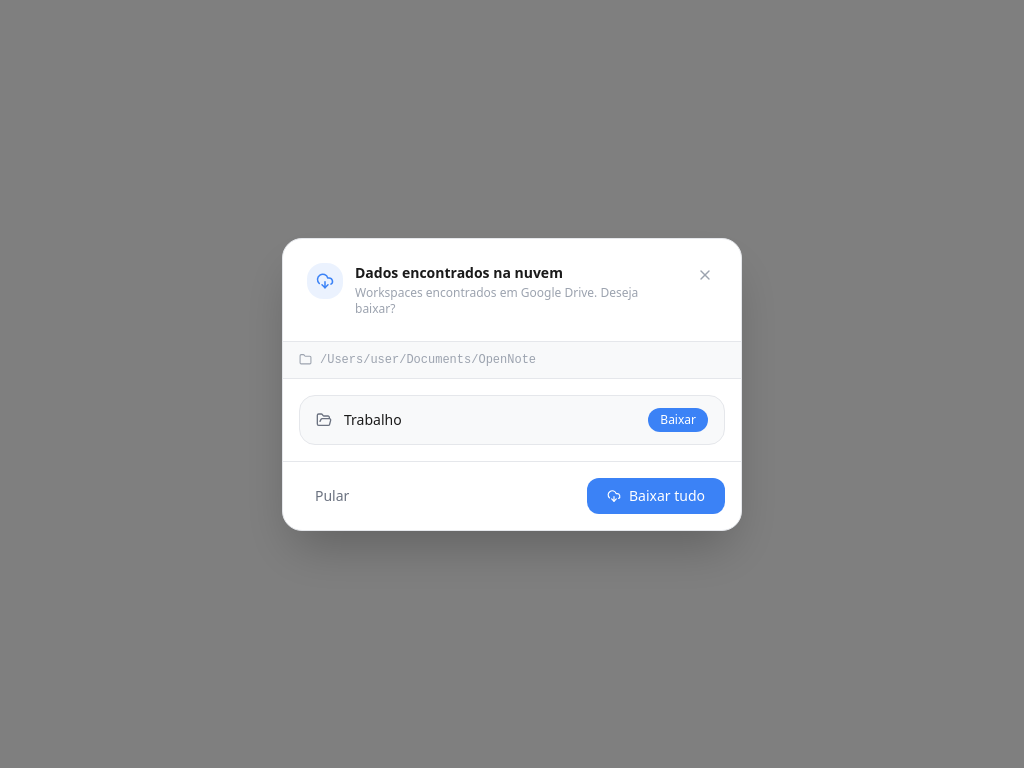
Test case: CloudImportModal › shows Fechar instead of Pular after all done
Click the button "Baixar": (678, 420) [648,408,708,432]
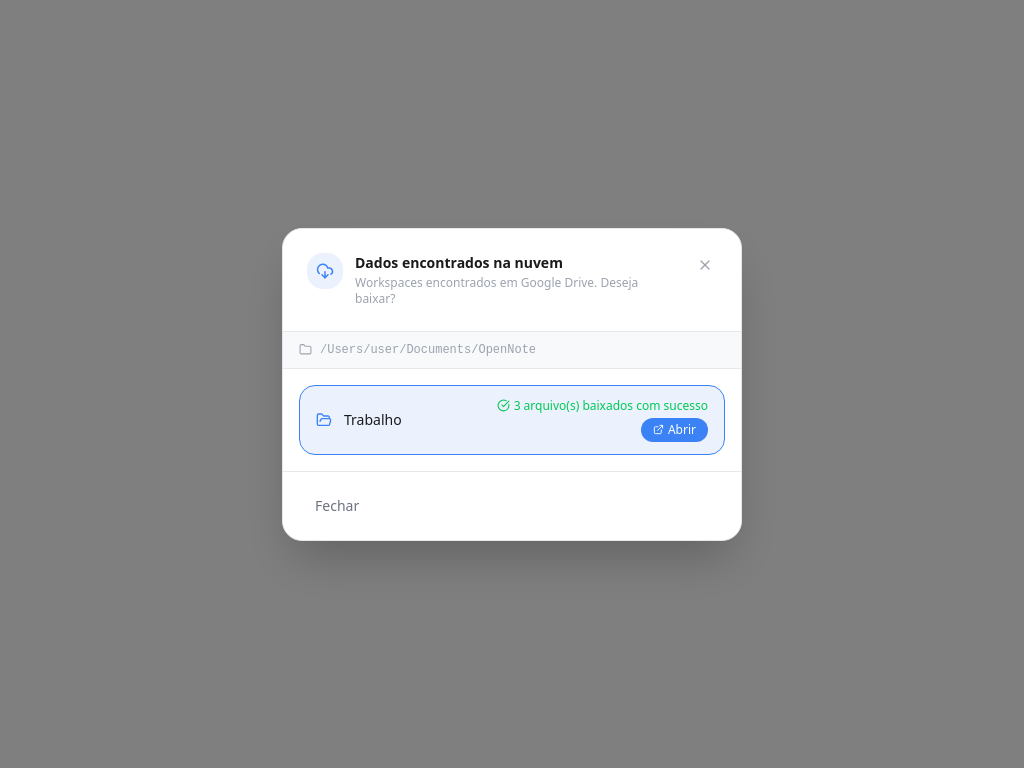
Now the button "Fechar" is shown, box [299,488,375,524]
